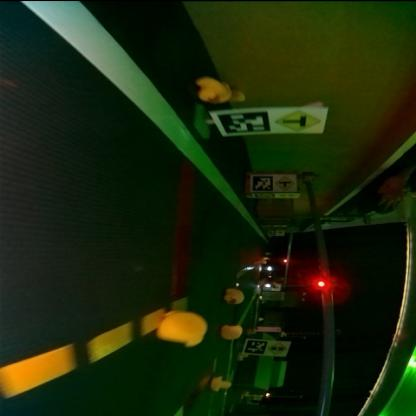Duckie: (160, 311, 207, 347), (198, 76, 228, 102), (224, 288, 245, 304), (212, 375, 232, 391), (222, 326, 243, 340)
Intersection sign: (276, 111, 322, 132), (276, 177, 297, 190)
QR code: (224, 111, 268, 134), (246, 340, 268, 354), (254, 176, 272, 189)
Signal sign: (270, 342, 288, 354)
Traffic light: (316, 276, 338, 290), (284, 258, 292, 263)
